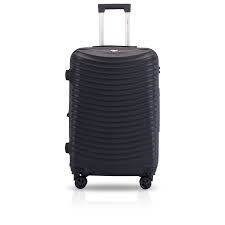suitcase: (65, 2, 160, 190)
